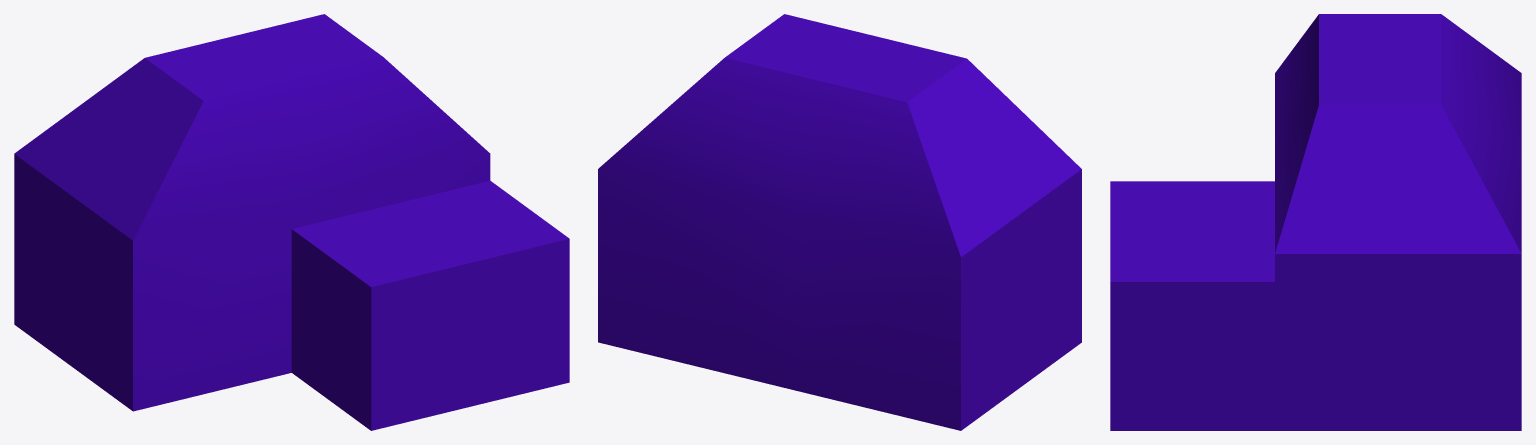
The model's file is SafeZone2.fbx.
The picture shows the model from 3 angles, left to right: view 1: azimuth 30°, elevation 25°; view 2: azimuth 150°, elevation 25°; view 3: azimuth 270°, elevation 25°; orthographic projection. The views are drawn at different scales.
Visible parts, largest first — view 1: polySurface1; view 2: polySurface1; view 3: polySurface1.
Boxes of the visible parts, x1,y1,x2,y2 form: polySurface1: (14,14,569,430); polySurface1: (598,14,1081,430); polySurface1: (1110,14,1521,430).
Size of the model in its own units: 1.73 by 1.26 by 1.67.
